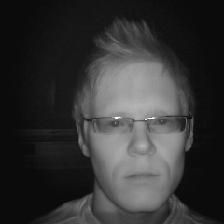normal: (64, 26, 206, 218)
